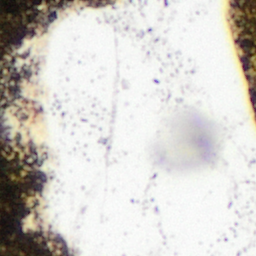cement_matrix: (0, 120, 69, 255), (0, 0, 77, 115), (233, 0, 255, 107), (82, 0, 106, 3)
gravel_crushed_stones: (0, 0, 255, 255)
